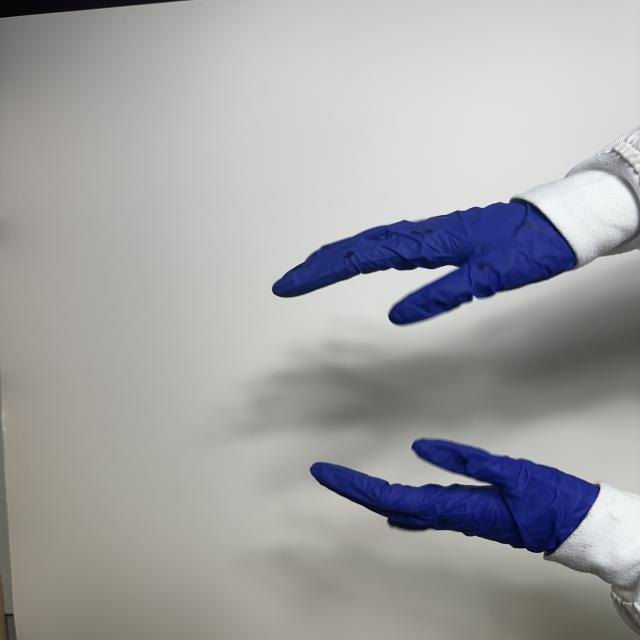gloves_contaminated: (272, 202, 576, 324), (311, 439, 599, 552)
